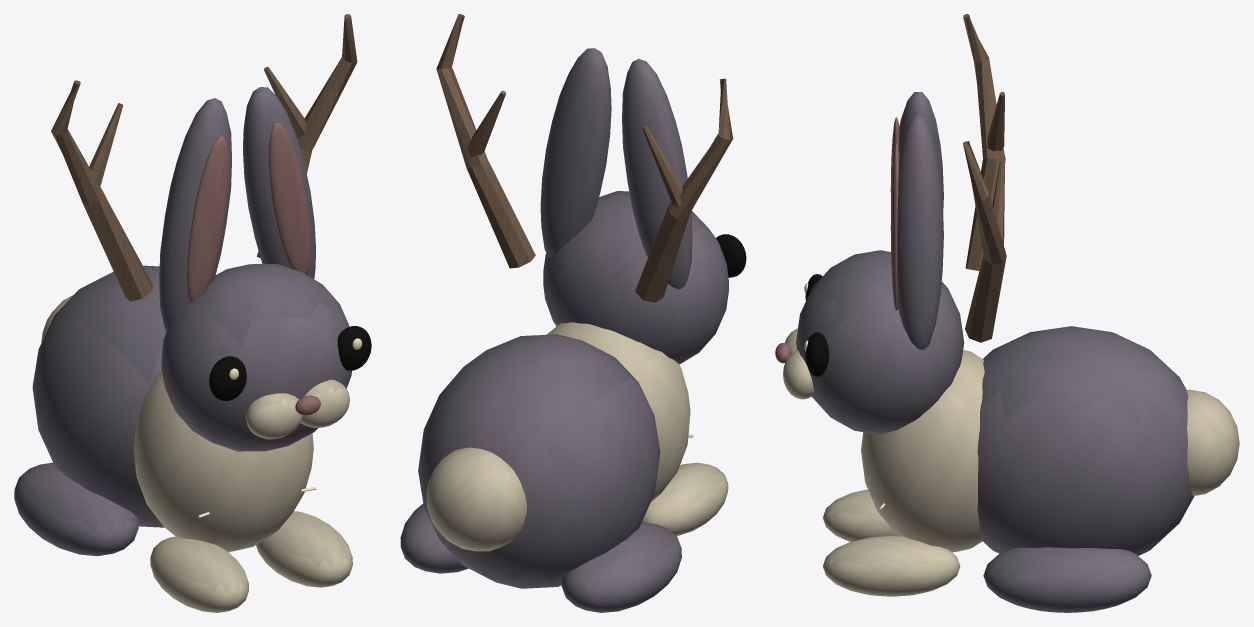
The model's file is forest_jackalope.glb.
The picture shows the model from 3 angles, left to right: view 1: azimuth 30°, elevation 25°; view 2: azimuth 150°, elevation 25°; view 3: azimuth 270°, elevation 25°; orthographic projection. The views are drawn at different scales.
Parts seen in each view (by area): view 1: Jackalope head, Round jackalope haunch, Jackalope cream chest, Rabbit rear paw, Long jackalope ear, Long jackalope ear.001, Rabbit front paw, Tiny branching antler, Rabbit front paw.001, Soft inner rabbit ear, Soft inner rabbit ear.001, Tiny branching antler.001 (+6 smaller); view 2: Round jackalope haunch, Jackalope head, Long jackalope ear.001, Long jackalope ear, Round cotton tail, Rabbit rear paw, Jackalope cream chest, Tiny branching antler.001, Tiny branching antler, Rabbit front paw, Rabbit rear paw.001, Antler fork (+2 smaller); view 3: Round jackalope haunch, Jackalope head, Jackalope cream chest, Long jackalope ear.001, Rabbit rear paw.001, Rabbit front paw.001, Round cotton tail, Tiny branching antler.001, Tiny branching antler, Rabbit front paw, Long jackalope ear, Plump rabbit muzzle.001 (+4 smaller).
Part boxes in pixels (<box>): Jackalope head: <box>161,264,351,451</box>; Round jackalope haunch: <box>32,265,166,527</box>; Jackalope cream chest: <box>134,370,313,552</box>; Rabbit rear paw: <box>14,462,138,556</box>; Long jackalope ear: <box>159,98,231,331</box>; Long jackalope ear.001: <box>243,87,315,278</box>; Rabbit front paw: <box>150,536,248,612</box>; Tiny branching antler: <box>51,80,152,301</box>; Rabbit front paw.001: <box>256,511,352,587</box>; Soft inner rabbit ear: <box>187,136,229,303</box>; Soft inner rabbit ear.001: <box>268,122,310,274</box>; Tiny branching antler.001: <box>257,14,357,257</box>; Round jackalope haunch: <box>418,334,660,588</box>; Jackalope head: <box>543,191,728,364</box>; Long jackalope ear.001: <box>540,48,611,257</box>; Long jackalope ear: <box>622,59,692,289</box>; Round cotton tail: <box>426,447,526,551</box>; Rabbit rear paw: <box>561,522,681,612</box>; Jackalope cream chest: <box>547,322,690,501</box>; Tiny branching antler.001: <box>436,14,535,268</box>; Tiny branching antler: <box>635,78,733,302</box>; Rabbit front paw: <box>642,462,728,536</box>; Rabbit rear paw.001: <box>400,503,468,573</box>; Antler fork: <box>642,125,682,206</box>; Round jackalope haunch: <box>977,326,1194,555</box>; Jackalope head: <box>796,250,964,434</box>; Jackalope cream chest: <box>861,350,984,552</box>; Long jackalope ear.001: <box>897,113,943,349</box>; Rabbit rear paw.001: <box>983,547,1151,612</box>; Rabbit front paw.001: <box>822,536,960,596</box>; Round cotton tail: <box>1186,389,1239,495</box>; Tiny branching antler.001: <box>963,141,1006,342</box>; Tiny branching antler: <box>963,14,1005,270</box>; Rabbit front paw: <box>822,489,898,541</box>; Long jackalope ear: <box>898,92,943,211</box>; Plump rabbit muzzle.001: <box>783,350,814,399</box>.
Bounding box in the file's own units: 0.8792 × 1.41 × 1.21.
6 materials, 4 textured.
